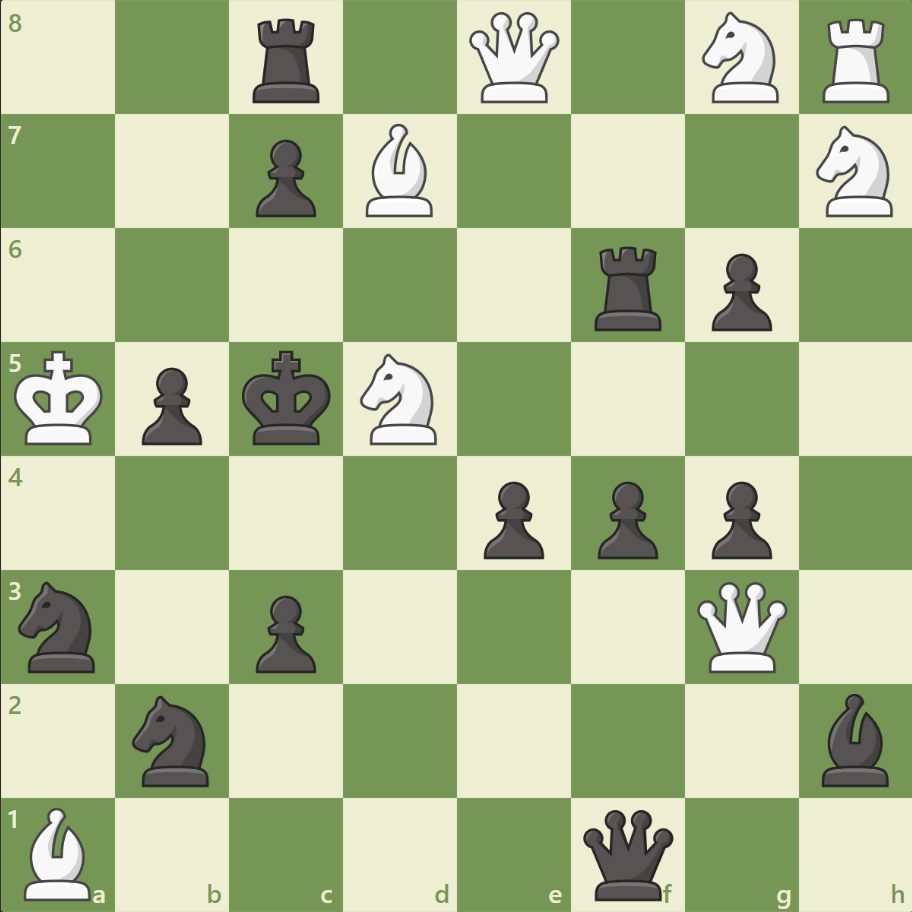B: (17, 801, 101, 904), (358, 120, 442, 222)
K: (11, 344, 111, 452)
N: (351, 348, 449, 450), (692, 7, 789, 110), (806, 121, 903, 223)
Q: (691, 576, 790, 676), (464, 9, 563, 108)
R: (814, 12, 897, 109)
b: (812, 687, 896, 790)
k: (238, 344, 338, 452)
n: (124, 688, 222, 791), (11, 575, 108, 677)
p: (247, 132, 322, 223), (701, 246, 776, 337), (133, 359, 208, 450), (474, 473, 549, 564), (701, 473, 776, 564), (247, 586, 322, 677), (588, 473, 662, 564)
q: (578, 804, 677, 903)
r: (246, 12, 329, 109), (587, 239, 670, 336)
